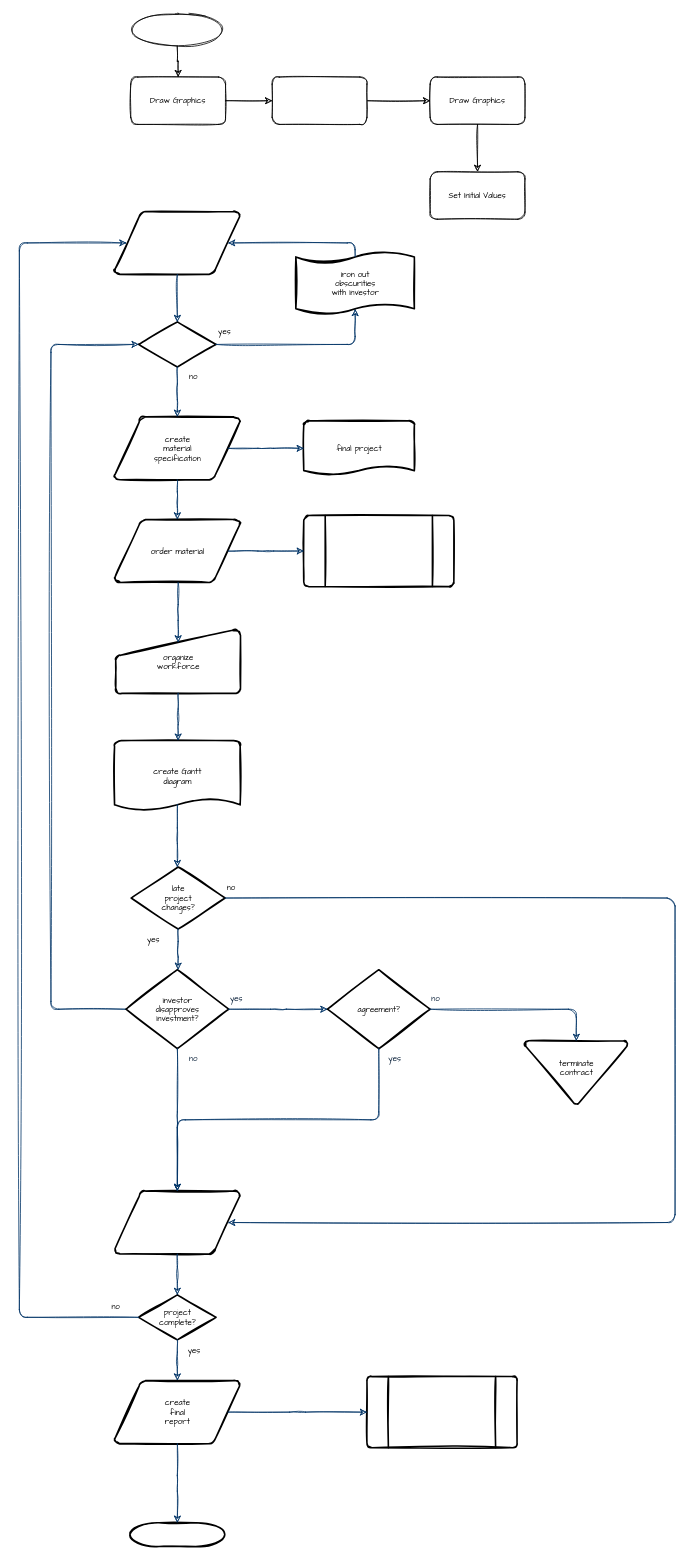
The diagram is 695 pixels wide and 1561 high, and some of its shapes have lost their labels. Each missing label, with the box of its shape:
check for obscurities: (113, 210, 241, 275)
create status report: (113, 1190, 241, 1255)
end: (129, 1522, 225, 1547)
Introduction Text: (271, 76, 367, 124)
issue bill of works: (366, 1375, 517, 1448)
material balance: (303, 514, 454, 587)
obscurities?: (137, 321, 216, 367)
Start: (129, 13, 225, 45)
